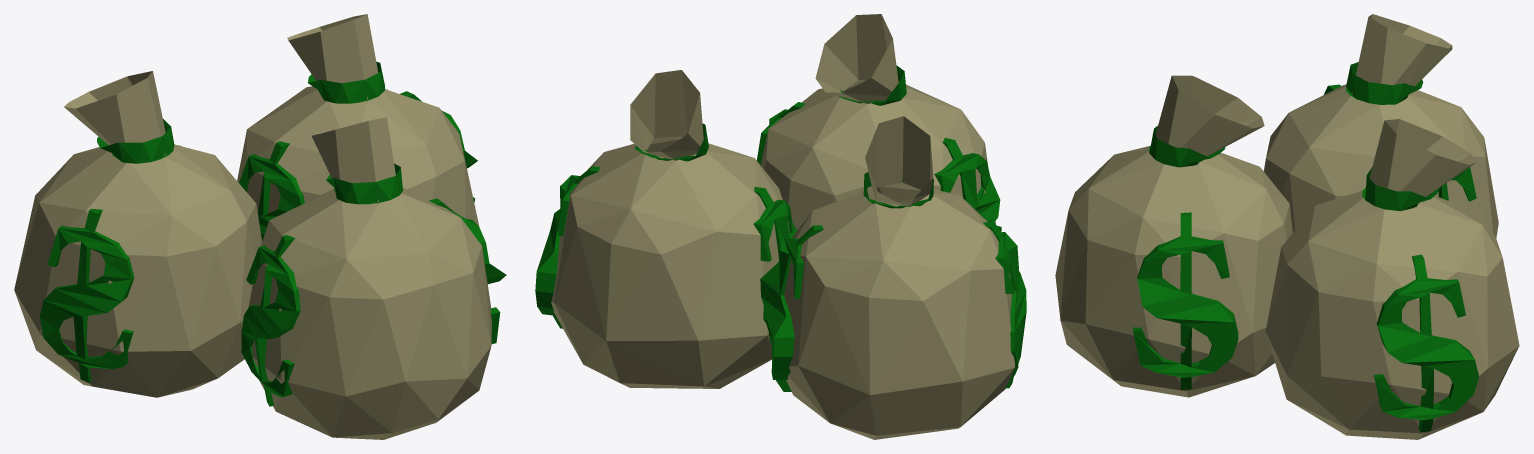
Rendered from Cash ($100).glb.
3 renders of one model, left to right at view 1: azimuth 30°, elevation 25°; view 2: azimuth 150°, elevation 25°; view 3: azimuth 270°, elevation 25°, orthographic.
Parts seen in each view (by area): view 1: Sack, Sack.001, Sack.002, Text.001, Text, Text.002, Tie, Tie.002, Tie.001; view 2: Sack.001, Sack.002, Sack, Text.001, Text.002, Text, Tie; view 3: Sack.002, Sack, Sack.001, Text, Text.002, Tie.001, Tie.002, Tie, Text.001.
Part boxes in pixels (<box>): Sack: <box>249,117,491,439</box>; Sack.001: <box>14,71,262,397</box>; Sack.002: <box>237,14,479,226</box>; Text.001: <box>39,145,181,382</box>; Text: <box>241,198,506,406</box>; Text.002: <box>239,91,477,240</box>; Tie: <box>326,163,402,204</box>; Tie.002: <box>308,61,384,103</box>; Tie.001: <box>97,119,174,163</box>; Sack.001: <box>784,116,1015,439</box>; Sack.002: <box>551,70,789,388</box>; Sack: <box>761,14,995,230</box>; Text.001: <box>760,222,1026,391</box>; Text.002: <box>535,166,796,343</box>; Text: <box>757,102,1001,231</box>; Tie: <box>838,65,906,105</box>; Sack.002: <box>1265,119,1519,439</box>; Sack: <box>1055,75,1292,397</box>; Sack.001: <box>1263,14,1498,237</box>; Text: <box>1133,212,1238,389</box>; Text.002: <box>1373,254,1479,432</box>; Tie.001: <box>1345,62,1423,104</box>; Tie.002: <box>1362,167,1439,211</box>; Tie: <box>1148,126,1225,167</box>; Text.001: <box>1324,84,1476,201</box>.
Size of the model in its own units: 1.25 by 0.8024 by 1.13.
